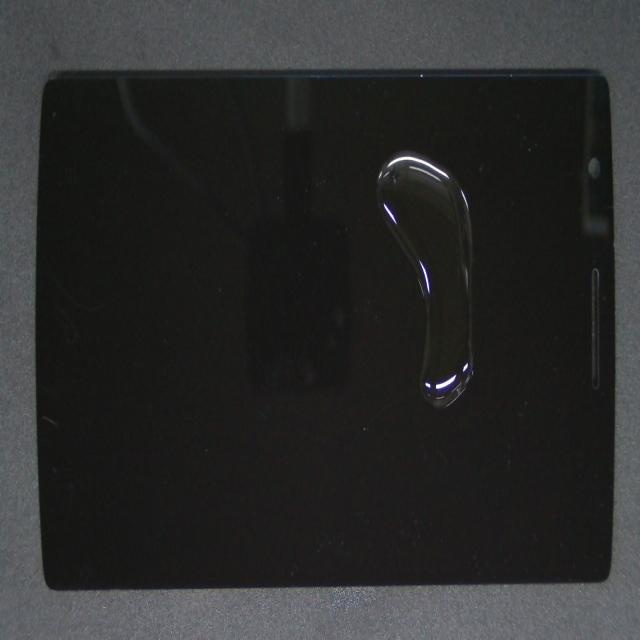oil: (196, 200, 640, 599)
